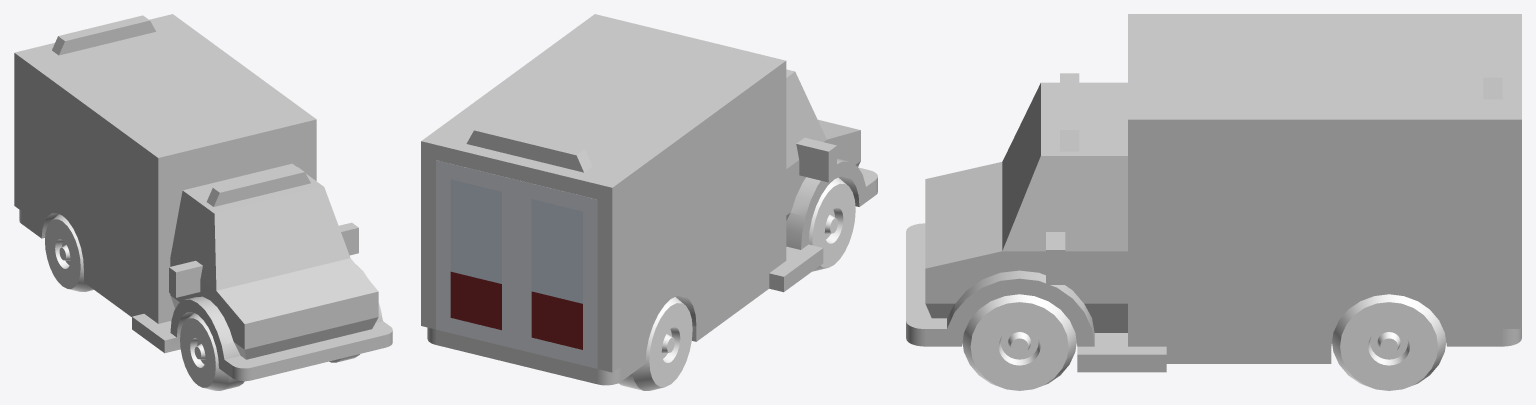
File: ambulance.gltf
3 views of the same model, side by side, from view 1: azimuth 30°, elevation 25°; view 2: azimuth 150°, elevation 25°; view 3: azimuth 270°, elevation 25° (orthographic). The views are drawn at different scales.
Visible parts, largest first — view 1: body, wheel_frontRight, wheel_backRight; view 2: body, doorRight, doorLeft, wheel_backRight, wheel_frontRight; view 3: body, wheel_backLeft, wheel_frontLeft.
Boxes of the visible parts, x1,y1,x2,y2 form: body: (14, 14, 392, 381); wheel_frontRight: (180, 313, 244, 390); wheel_backRight: (45, 214, 93, 291); body: (421, 14, 877, 385); doorRight: (516, 180, 597, 368); doorLeft: (436, 160, 516, 349); wheel_backRight: (618, 297, 692, 390); wheel_frontRight: (808, 177, 855, 271); body: (906, 14, 1521, 372); wheel_backLeft: (1332, 294, 1446, 390); wheel_frontLeft: (962, 294, 1076, 390).
Size of the model in its own units: 1.5 by 1.7 by 3.2.
